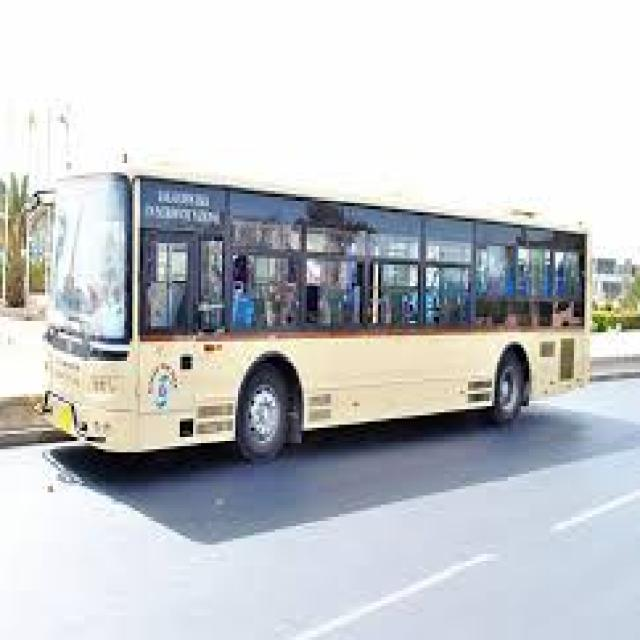bus dem dikk: (46, 174, 590, 461)
